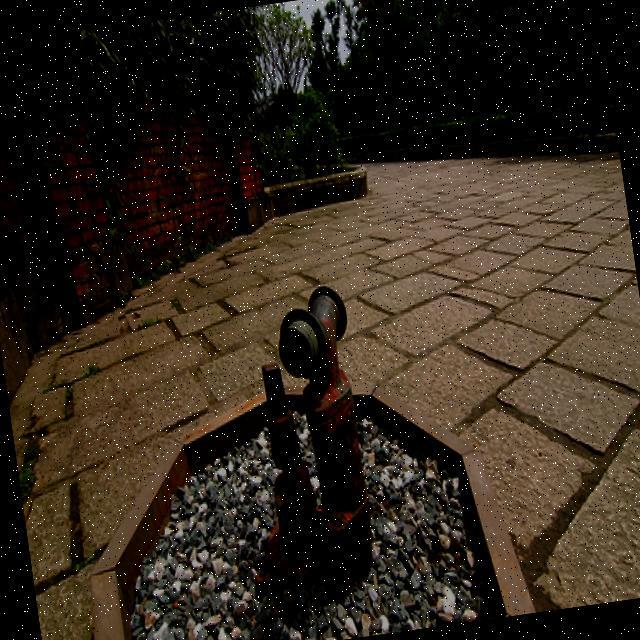fire_hydrant: (210, 280, 382, 610)
